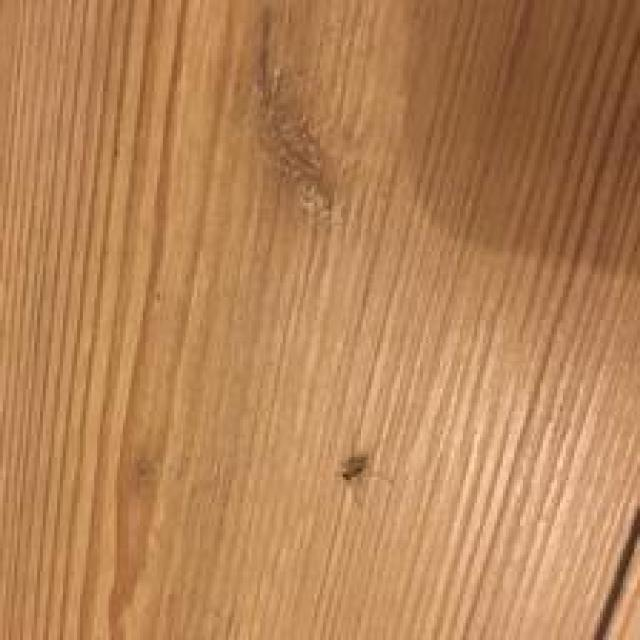Culex: (339, 453, 367, 481)
